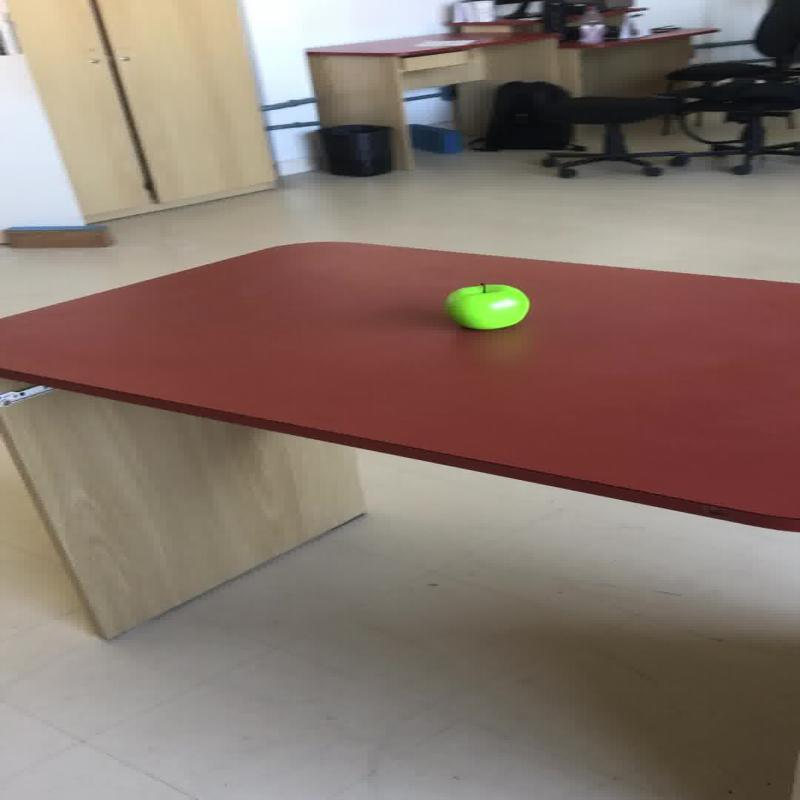apple: (443, 282, 530, 330)
